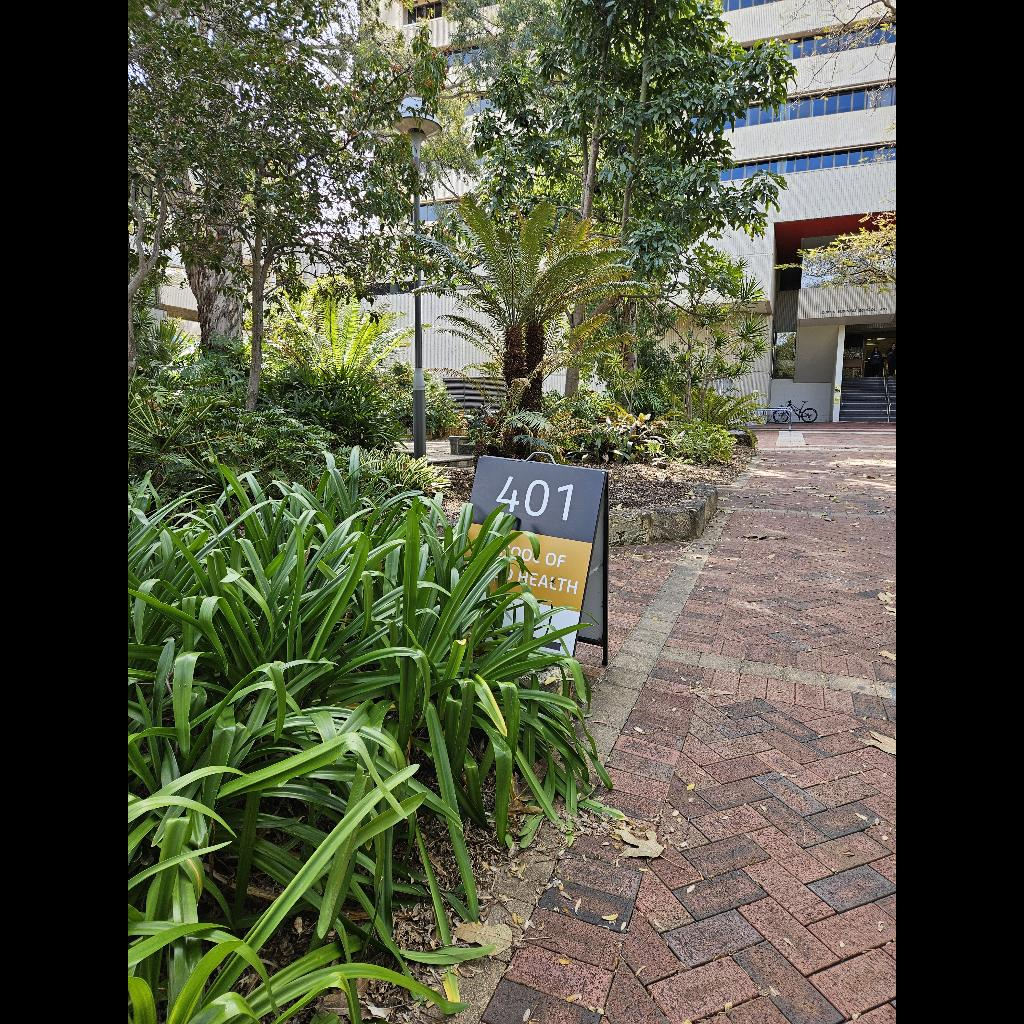BuildingCodes: (495, 476, 575, 522)
